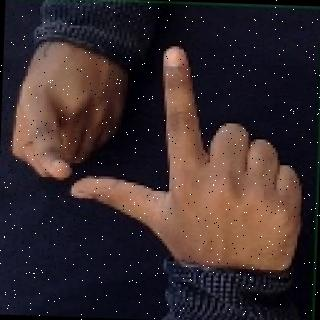J: (8, 43, 302, 261)
